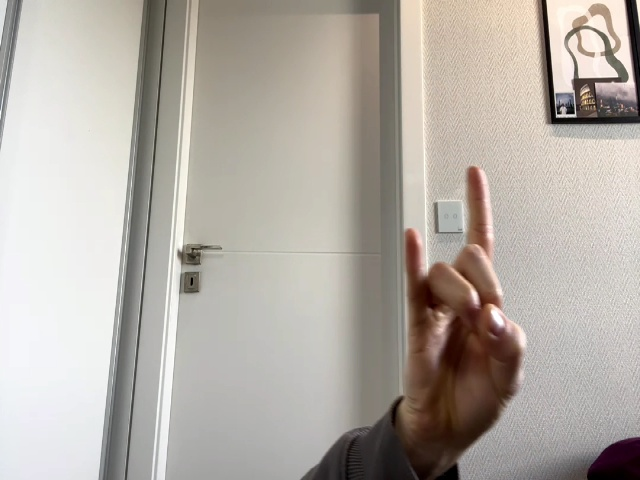Y: (404, 166, 527, 438)
